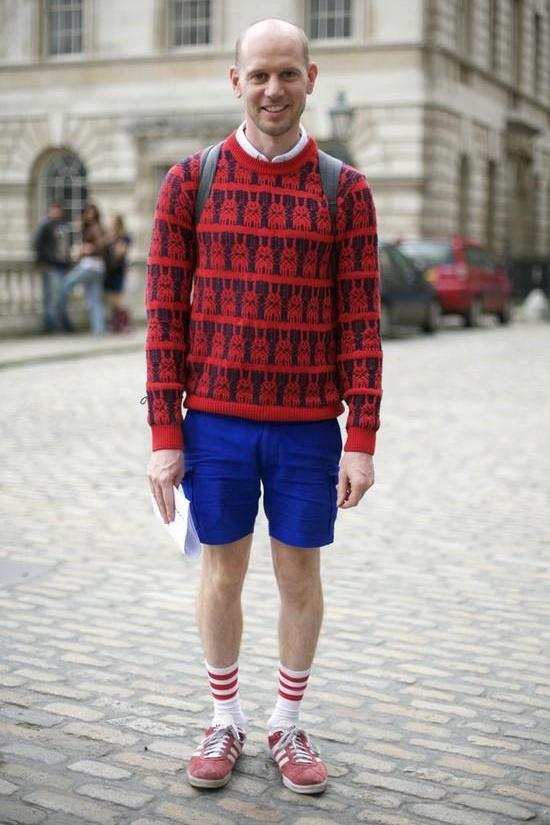short: (174, 404, 342, 547)
sweater: (145, 130, 382, 457)
